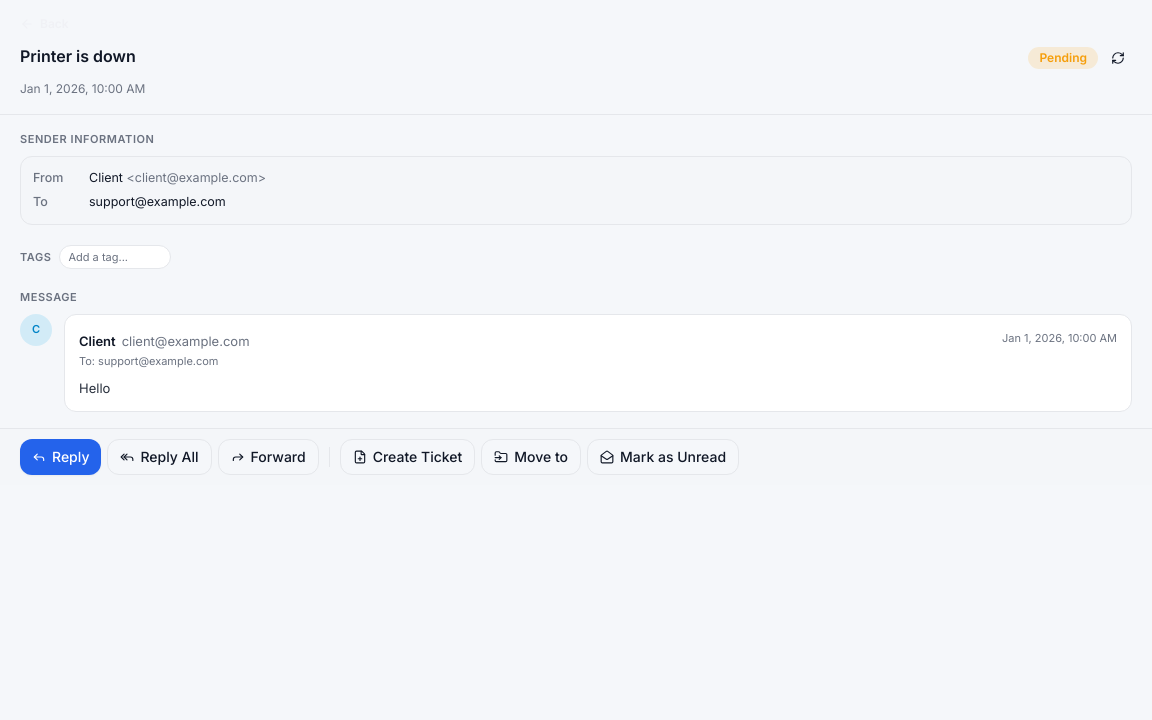
it: Create Ticket dialog - Team Lead staff assignment › selecting a category requests that category's staff and lists them
Click the button "Create Ticket".
click(408, 457)  # box [340, 439, 475, 475]
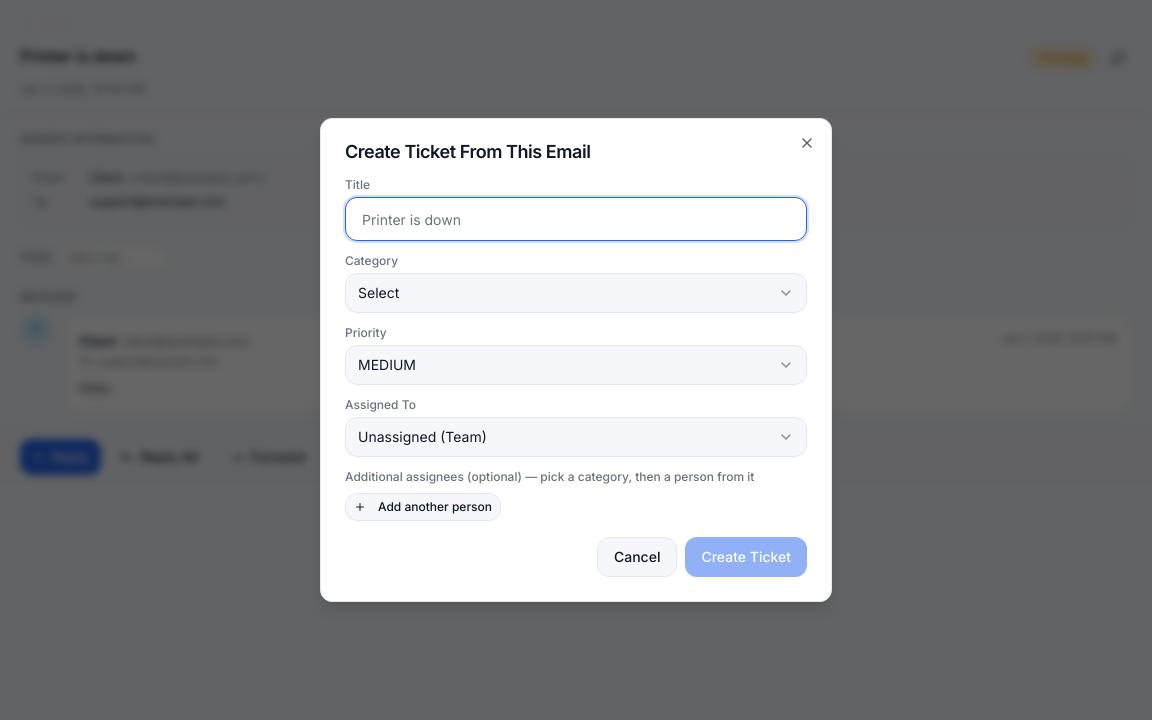
Click the dropdown labelled "Select".
click(379, 292)  # box [345, 273, 807, 313]
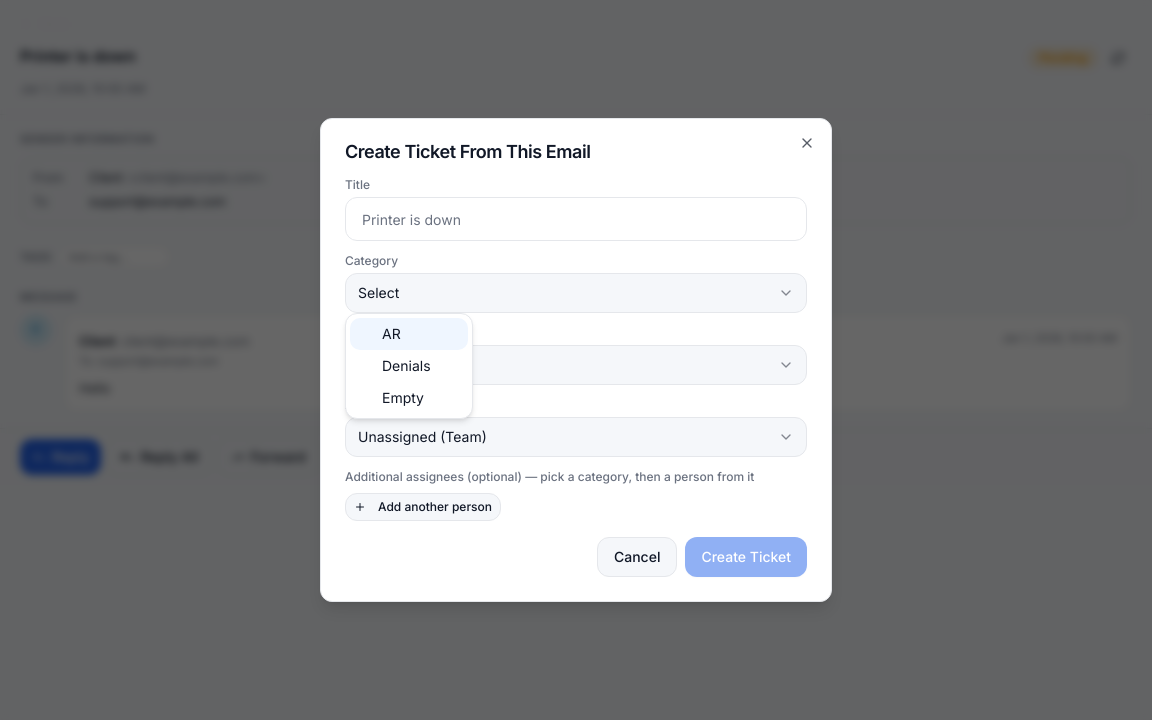
Click the option "AR".
click(409, 334)  # box [350, 318, 468, 350]
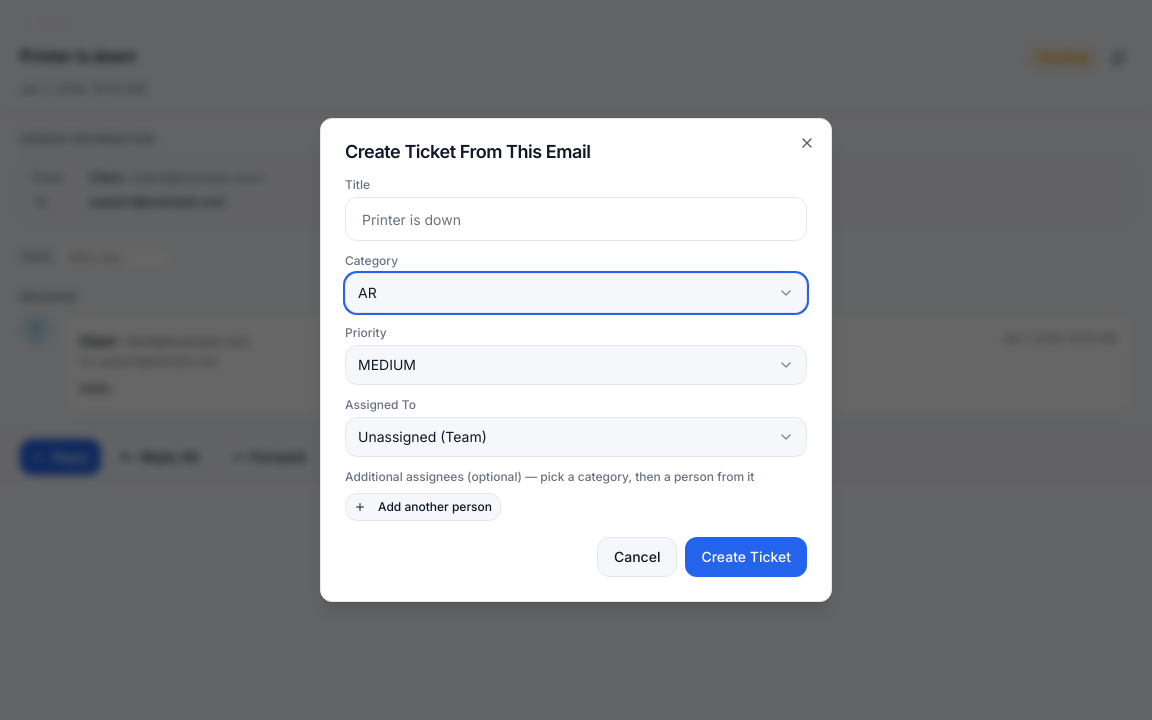
Click the dropdown labelled "Unassigned (Team)".
click(422, 436)  # box [345, 417, 807, 457]
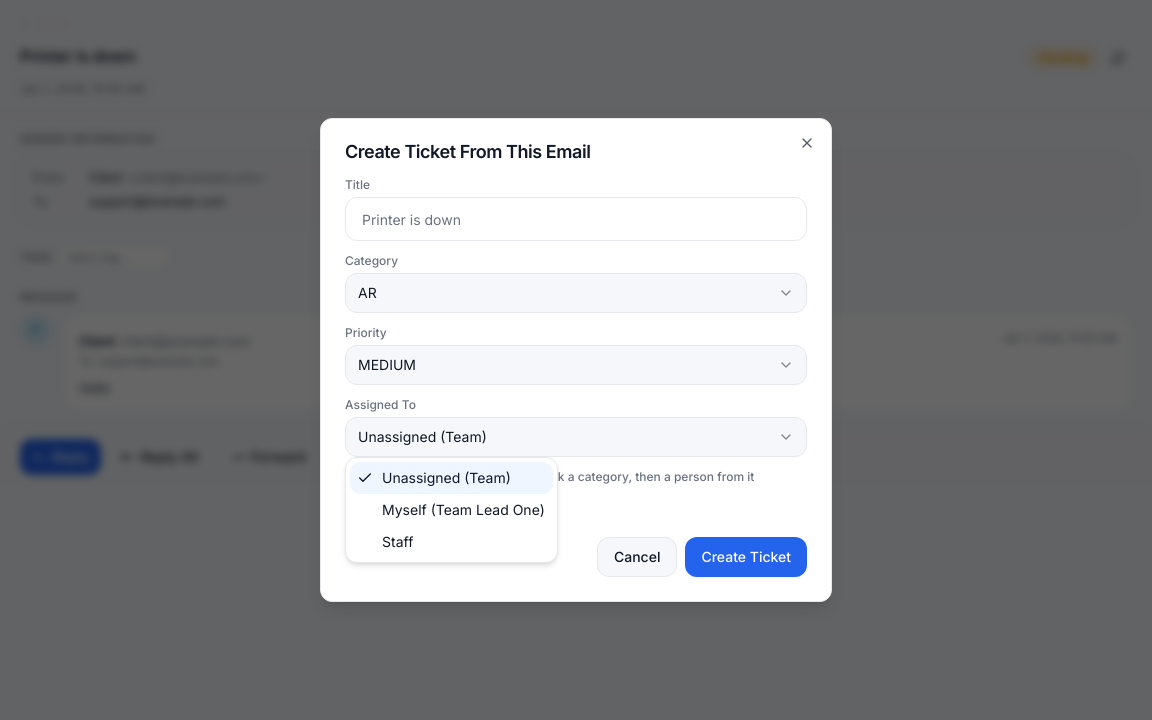
Click the option "Staff".
click(398, 542)  # box [382, 533, 413, 550]
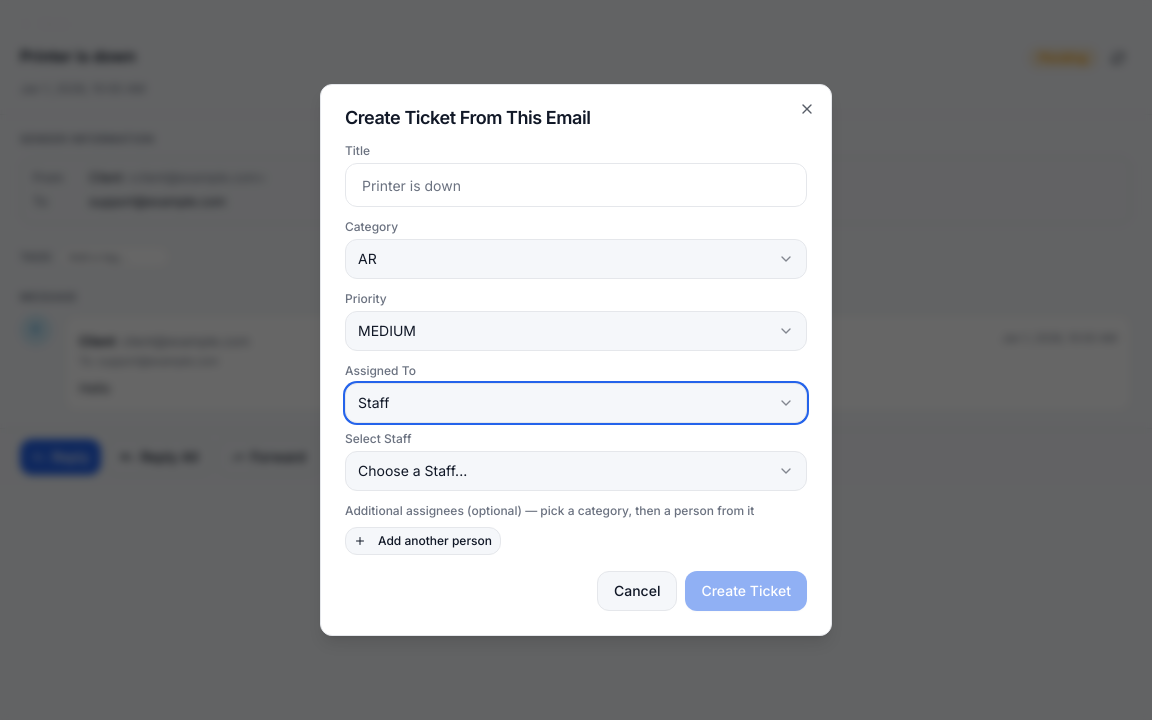
Click the dropdown labelled "Choose a Staff...".
click(413, 470)  # box [345, 451, 807, 491]
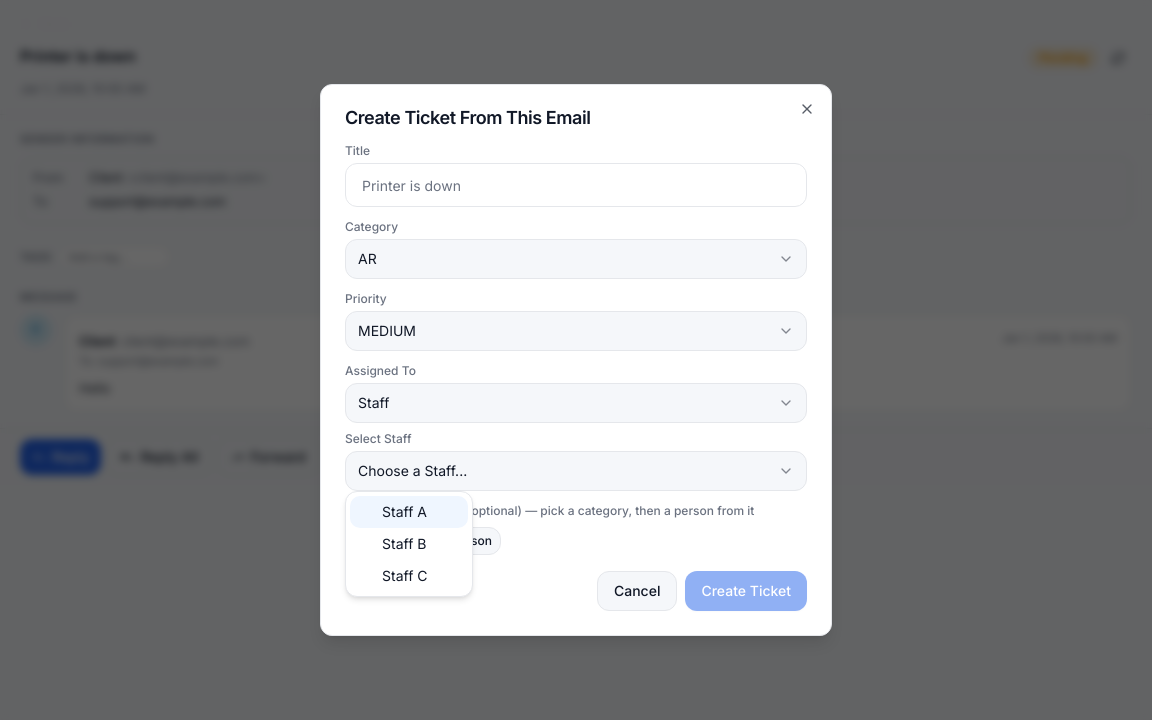
Expected: the options read "Staff A", "Staff B", "Staff C", in this order, [350, 496, 468, 528]; [382, 535, 426, 552]; [382, 567, 428, 584]
